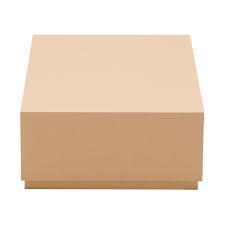box: (20, 35, 205, 189)
